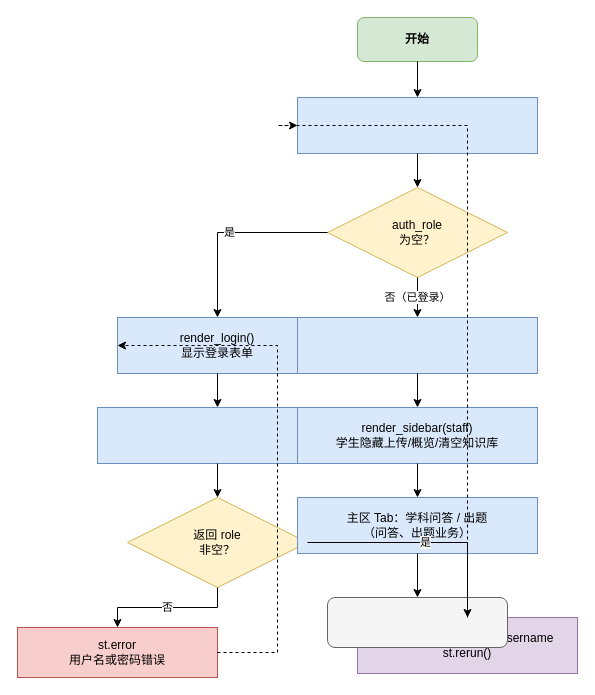
This 595x695 diagram has some shape labels left out. Here are the shapes that lost their labels. From the top down, the centre of each, then its label:
At point (417, 125): "init_session_state() 初始化会话（含 auth、RAG、聊天等）".
At point (417, 345): "staff = is_staff(auth_role) 教师/管理员 → staff=True".
At point (217, 435): "verify_login() load_auth_users + 密码比对".
At point (417, 622): "本帧脚本结束 （Streamlit 重绘）".
